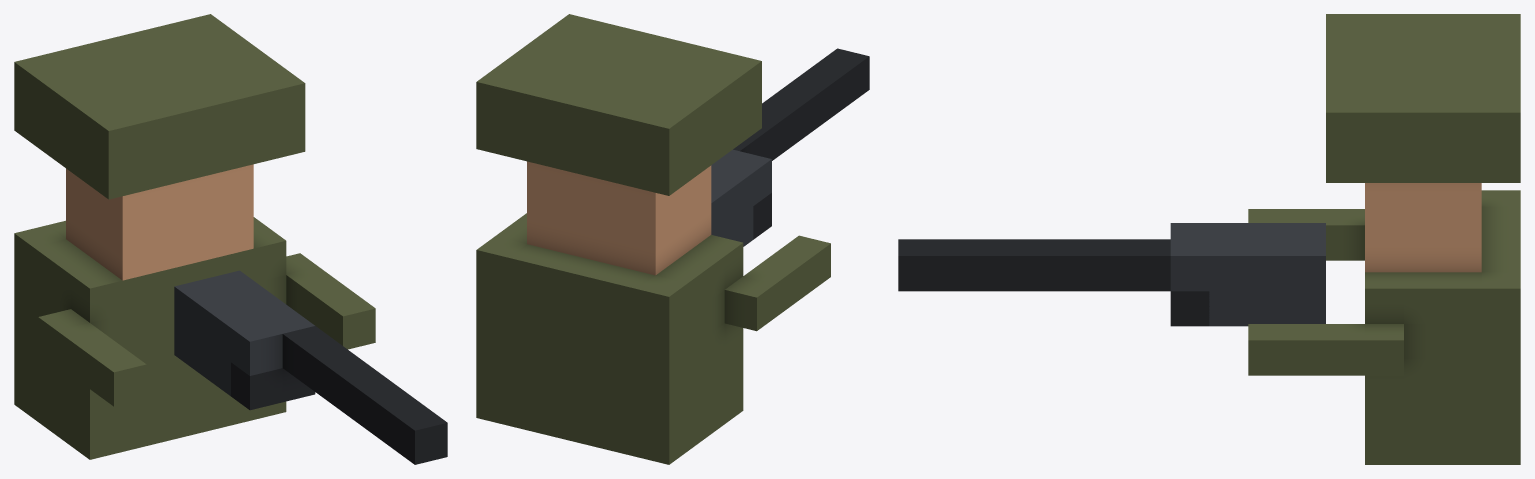
Rendered from cm_tower_gun.glb.
The picture shows the model from 3 angles, left to right: view 1: azimuth 30°, elevation 25°; view 2: azimuth 150°, elevation 25°; view 3: azimuth 270°, elevation 25°; orthographic projection. The views are drawn at different scales.
Visible parts, largest first — view 1: cm_tower_gun_body; view 2: cm_tower_gun_body; view 3: cm_tower_gun_body.
Part boxes in pixels (x1,y1,x2,y2): cm_tower_gun_body: (14,14,447,464); cm_tower_gun_body: (476,14,869,464); cm_tower_gun_body: (898,14,1520,464).
Bounding box in the file's own units: 0.5 × 0.625 × 1.
1 material, 1 textured.
